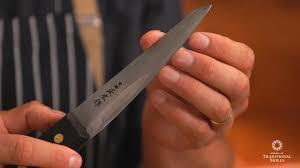Knife: (0, 0, 255, 168), (65, 4, 213, 146), (0, 100, 80, 168)
